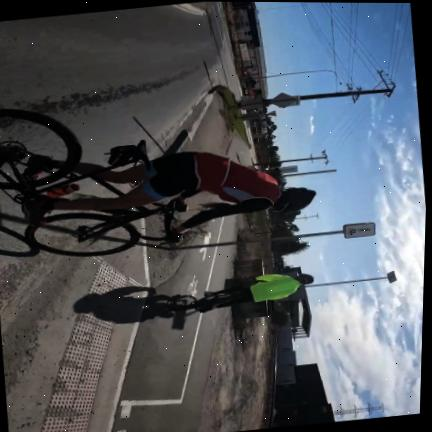Bike_Lane: (113, 303, 227, 432), (157, 246, 235, 297), (206, 216, 237, 244)
